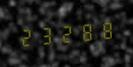eight: (75, 19, 93, 44), (94, 17, 112, 42)
three: (37, 22, 55, 47)
two: (56, 20, 74, 46), (18, 24, 36, 49)
